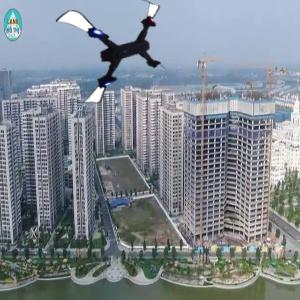drone: (59, 1, 168, 110)
